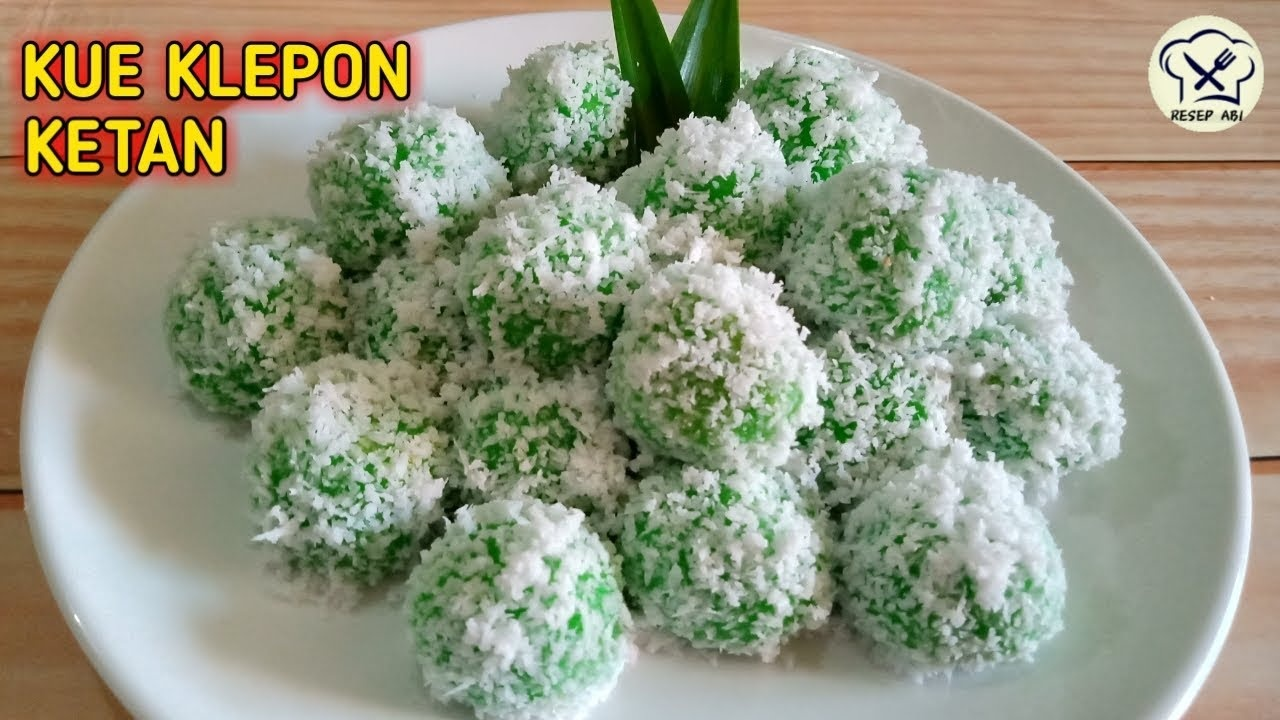klepon: (362, 472, 640, 720), (860, 474, 1070, 693), (616, 263, 821, 459)
